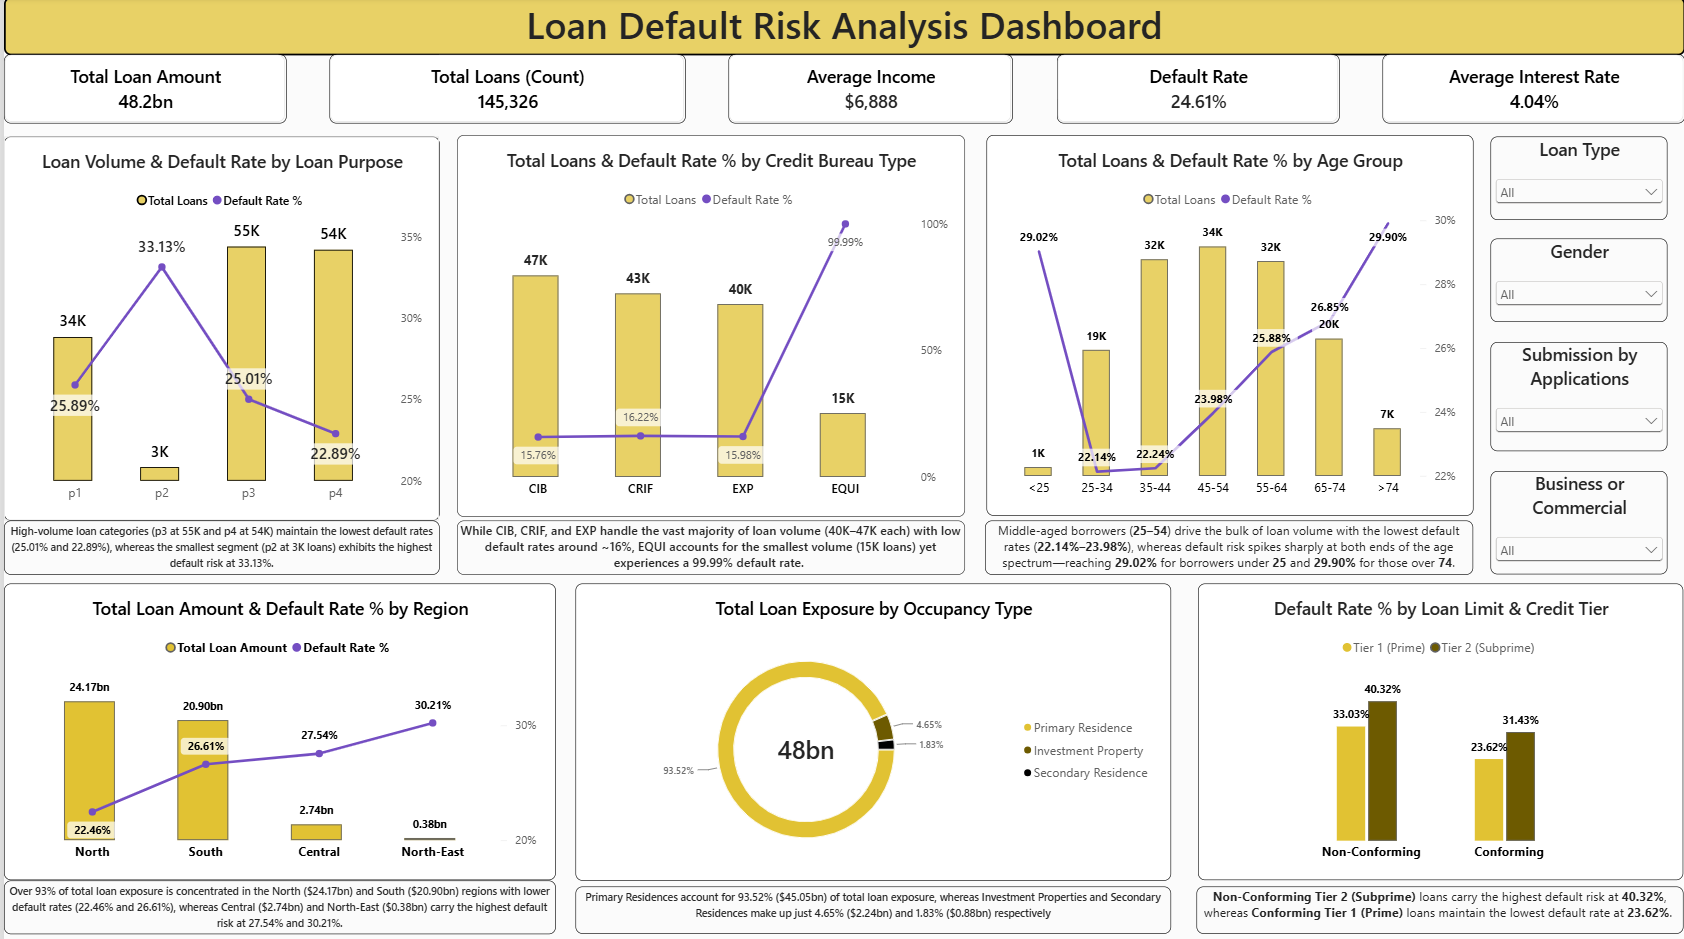

This screenshot's page, from the dashboard's own definition file:
{"tool":"powerbi","page":{"name":"Page 1","canvas":[1920,1080],"ordinal":0},"visuals":[{"type":"textbox","box":[0,0,1919.5,67],"z":0},{"type":"cardVisual","fields":{"Data":["Sum(Loan_Default.loan_amount)"]},"box":[0,65.9,322.5,79.5],"z":1000},{"type":"cardVisual","fields":{"Data":["CountNonNull(Loan_Default.ID)"]},"box":[371.9,65.9,406.6,79.5],"z":2000},{"type":"cardVisual","fields":{"Data":["Avg(Loan_Default.income)"]},"box":[827.9,65.9,324.8,79.5],"z":3000},{"type":"cardVisual","fields":{"Data":["Loan_Default.Default Rate %"]},"box":[1202.1,65.9,322.5,79.5],"z":4000},{"type":"cardVisual","fields":{"Data":["Loan_Default.Average Interest Rate"]},"box":[1574,65.9,345.2,79.5],"z":5000},{"type":"lineClusteredColumnComboChart","title":"Loan Volume & Default Rate by Loan Purpose","fields":{"Category":["Loan_Default.loan_purpose"],"Y":["CountNonNull(Loan_Default.ID)"],"Y2":["Loan_Default.Default Rate %"]},"box":[0,158.8,497.4,438.4],"z":6000},{"type":"textbox","box":[0,597.6,497.6,61.9],"z":7000},{"type":"lineClusteredColumnComboChart","title":"Total Loans & Default Rate % by Credit Bureau Type","fields":{"Category":["Loan_Default.credit_type"],"Y":["CountNonNull(Loan_Default.ID)"],"Y2":["Loan_Default.Default Rate %"]},"box":[517.9,157.1,579.8,435.7],"z":8000},{"type":"textbox","box":[517.9,597.6,579.8,61.9],"z":9000},{"type":"lineClusteredColumnComboChart","title":"Total Loans & Default Rate % by Age Group","fields":{"Category":["Loan_Default.age"],"Y":["CountNonNull(Loan_Default.ID)"],"Y2":["Loan_Default.Default Rate %"]},"box":[1121.4,158.3,556,434.5],"z":10000},{"type":"textbox","box":[1120.2,597.6,557,62],"z":11000},{"type":"lineStackedColumnComboChart","title":"Total Loan Amount & Default Rate % by Region","fields":{"Category":["Loan_Default.Region"],"Y":["Sum(Loan_Default.loan_amount)"],"Y2":["Loan_Default.Default Rate %"]},"box":[0,670,630,338.3],"z":12000},{"type":"textbox","box":[0,1008.6,630,61.4],"z":13000},{"type":"donutChart","title":"Total Loan Exposure by Occupancy Type","fields":{"Category":["Loan_Default.occupancy_type"],"Y":["Sum(Loan_Default.loan_amount)"]},"box":[652.5,669.2,680,339.2],"z":14000},{"type":"textbox","box":[652.7,1014.9,679.8,54.2],"z":15000},{"type":"clusteredColumnChart","title":"Default Rate % by Loan Limit & Credit Tier","fields":{"Category":["Loan_Default.loan_limit"],"Series":["Loan_Default.Credit_Worthiness"],"Y":["Loan_Default.Default Rate %"]},"box":[1363.5,670.1,553.9,338.9],"z":15001},{"type":"textbox","box":[1361.6,1014.9,555.9,54.2],"z":15002},{"type":"slicer","title":"Loan Type","fields":{"Values":["Loan_Default.loan_type"]},"box":[1696.7,159,202.1,95.4],"z":15003},{"type":"slicer","title":"Gender","fields":{"Values":["Loan_Default.Gender"]},"box":[1696.7,276.3,202.1,95.4],"z":15004},{"type":"slicer","title":"Submission by Applications","fields":{"Values":["Loan_Default.submission_of_application"]},"box":[1696.7,393.7,202.1,124.9],"z":15005},{"type":"slicer","title":"Business or Commercial","fields":{"Values":["Loan_Default.business_or_commercial"]},"box":[1696.7,540.6,202.1,118.1],"z":15006}]}

Visuals, with their boxes in screenshot pixels (x1, y1, x2, y2), scaled from the page's 1920x1080 canvas onto the 1684x939 screenshot:
textbox: {"left": 0, "top": 0, "right": 1683, "bottom": 58}
cardVisual - Sum(Loan_Default.loan_amount): {"left": 0, "top": 57, "right": 283, "bottom": 126}
cardVisual - CountNonNull(Loan_Default.ID): {"left": 326, "top": 57, "right": 683, "bottom": 126}
cardVisual - Avg(Loan_Default.income): {"left": 726, "top": 57, "right": 1011, "bottom": 126}
cardVisual - Loan_Default.Default Rate %: {"left": 1054, "top": 57, "right": 1337, "bottom": 126}
cardVisual - Loan_Default.Average Interest Rate: {"left": 1381, "top": 57, "right": 1683, "bottom": 126}
"Loan Volume & Default Rate by Loan Purpose" lineClusteredColumnComboChart: {"left": 0, "top": 138, "right": 436, "bottom": 519}
textbox: {"left": 0, "top": 520, "right": 436, "bottom": 573}
"Total Loans & Default Rate % by Credit Bureau Type" lineClusteredColumnComboChart: {"left": 454, "top": 137, "right": 963, "bottom": 515}
textbox: {"left": 454, "top": 520, "right": 963, "bottom": 573}
"Total Loans & Default Rate % by Age Group" lineClusteredColumnComboChart: {"left": 984, "top": 138, "right": 1471, "bottom": 515}
textbox: {"left": 983, "top": 520, "right": 1471, "bottom": 573}
"Total Loan Amount & Default Rate % by Region" lineStackedColumnComboChart: {"left": 0, "top": 583, "right": 553, "bottom": 877}
textbox: {"left": 0, "top": 877, "right": 553, "bottom": 930}
"Total Loan Exposure by Occupancy Type" donutChart: {"left": 572, "top": 582, "right": 1169, "bottom": 877}
textbox: {"left": 572, "top": 882, "right": 1169, "bottom": 930}
"Default Rate % by Loan Limit & Credit Tier" clusteredColumnChart: {"left": 1196, "top": 583, "right": 1682, "bottom": 877}
textbox: {"left": 1194, "top": 882, "right": 1682, "bottom": 930}
"Loan Type" slicer: {"left": 1488, "top": 138, "right": 1665, "bottom": 221}
"Gender" slicer: {"left": 1488, "top": 240, "right": 1665, "bottom": 323}
"Submission by Applications" slicer: {"left": 1488, "top": 342, "right": 1665, "bottom": 451}
"Business or Commercial" slicer: {"left": 1488, "top": 470, "right": 1665, "bottom": 573}
